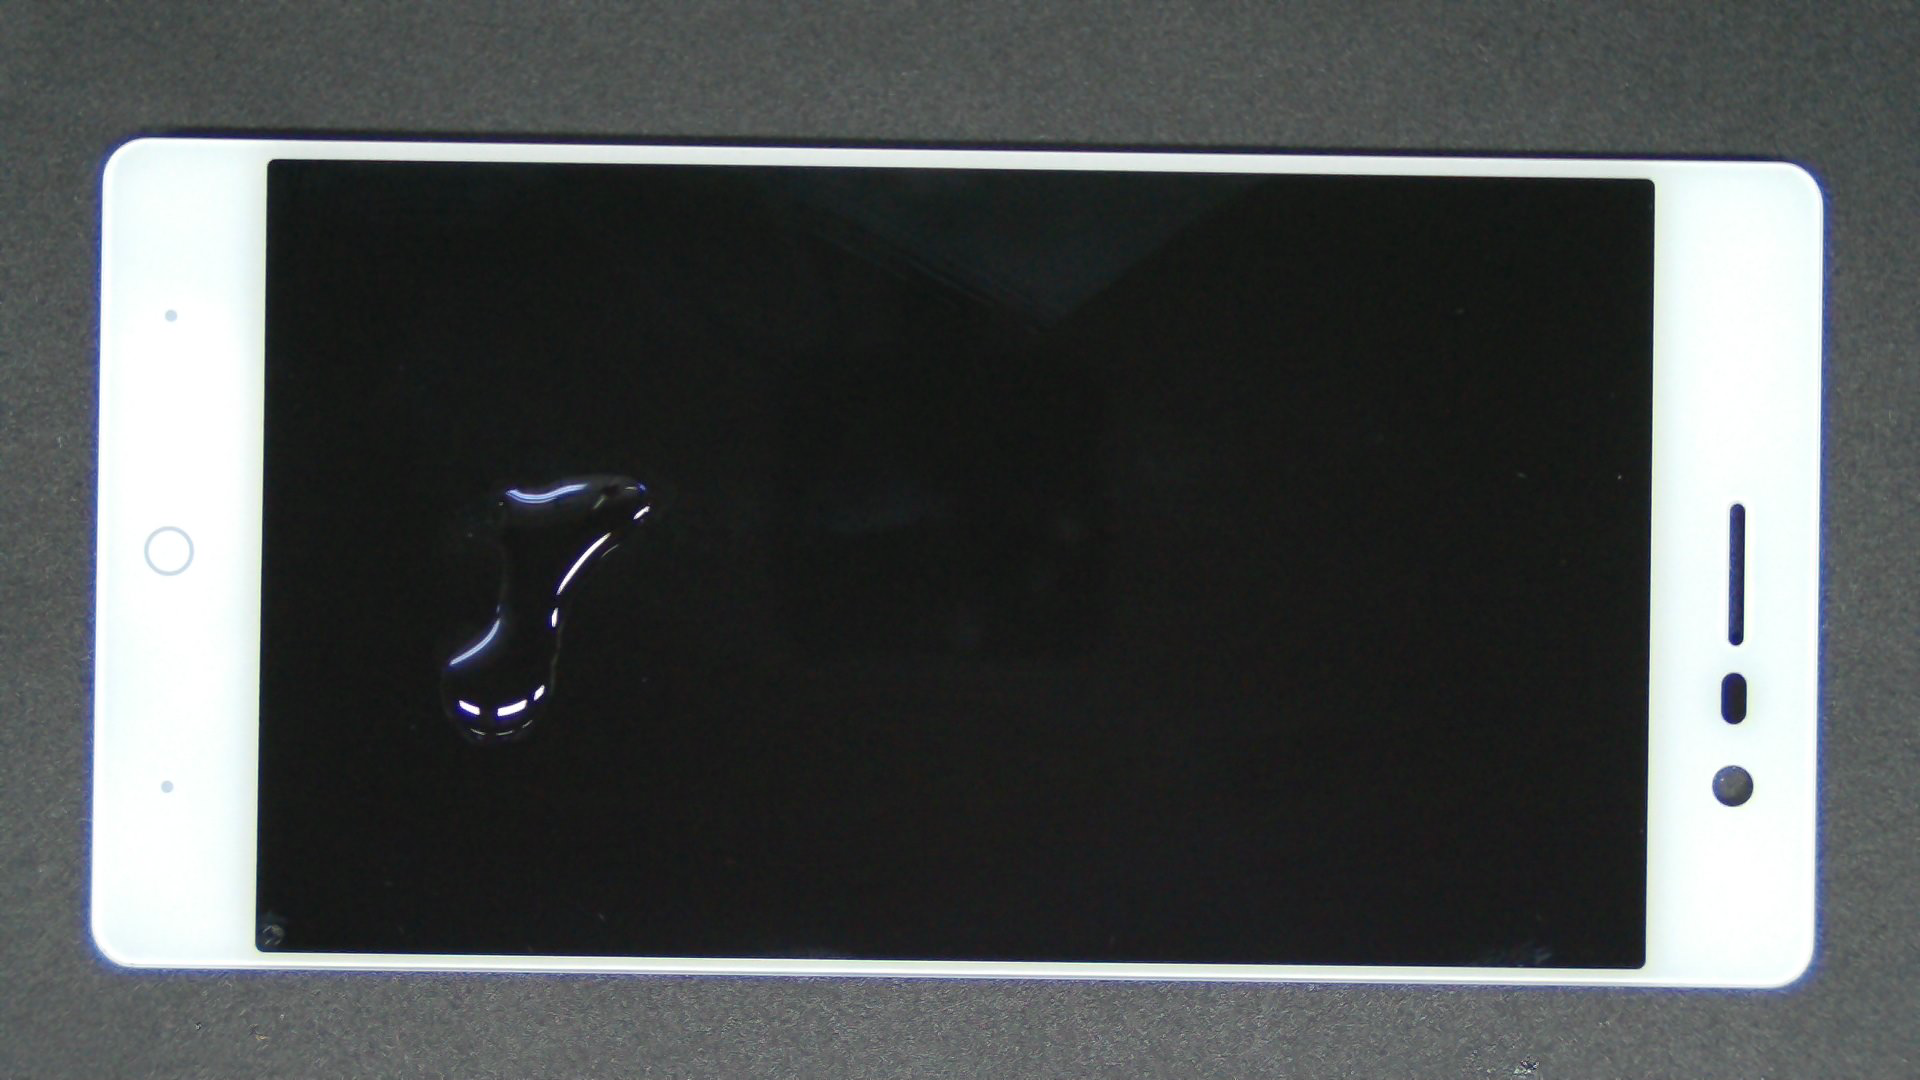defect: (440, 473, 651, 741)
